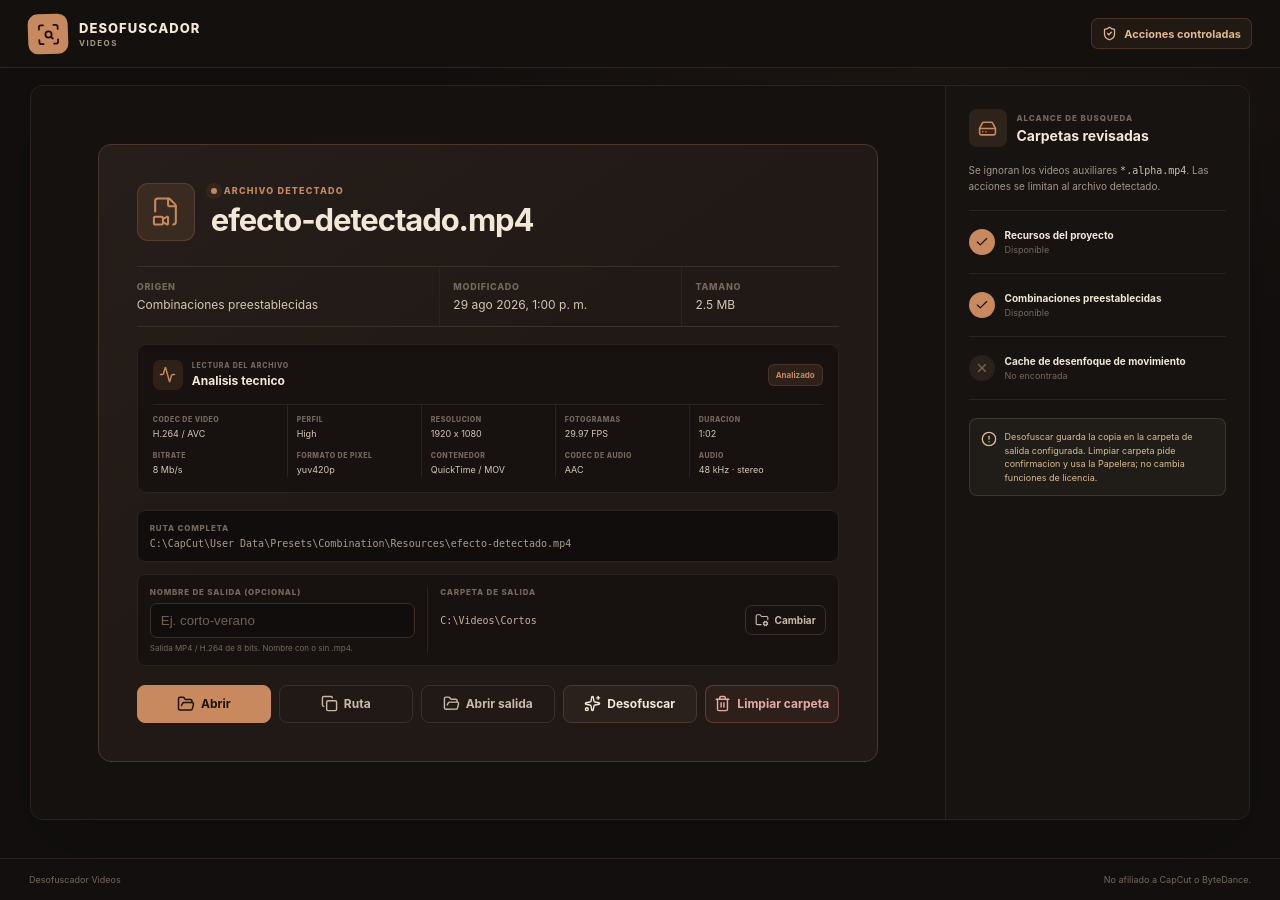
interfaz principal › cancela o confirma el vaciado sin borrar la carpeta contenedora desde la interfaz
The width and height of the screenshot is (1280, 900).
(page scrolled)
Expected: the heading "efecto-detectado.mp4" is shown, x1=211 y1=203 x2=534 y2=238
What coordinates should you click on to do the following:
click the button "Limpiar carpeta"
I would click on:
 (772, 704)
Its box is x1=705 y1=685 x2=839 y2=723.
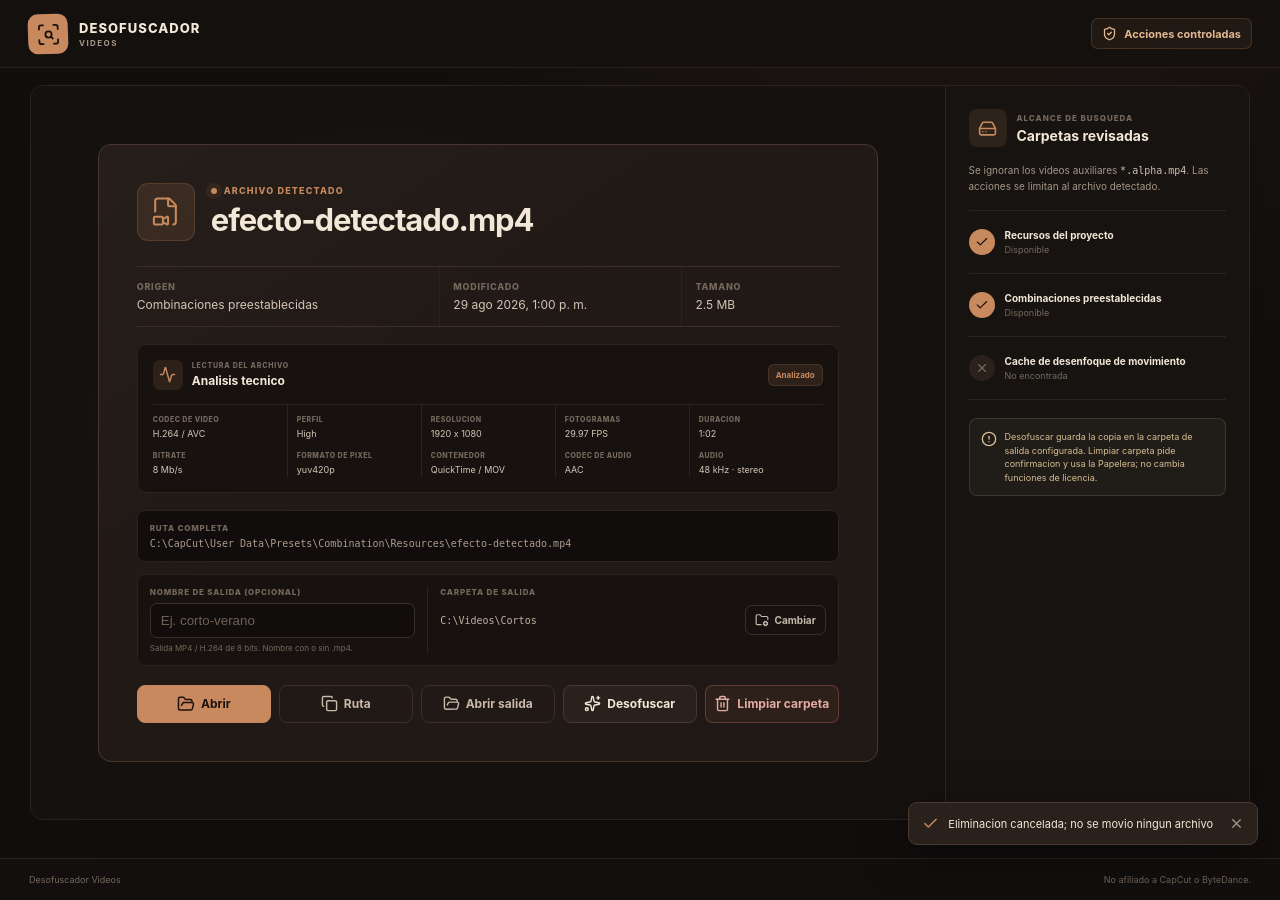
Expected: the message shows "Eliminacion cancelada", x1=948 y1=816 x2=1213 y2=830
What coordinates should you click on to do the following:
click the button "Limpiar carpeta"
I would click on:
 (772, 704)
Its box is x1=705 y1=685 x2=839 y2=723.
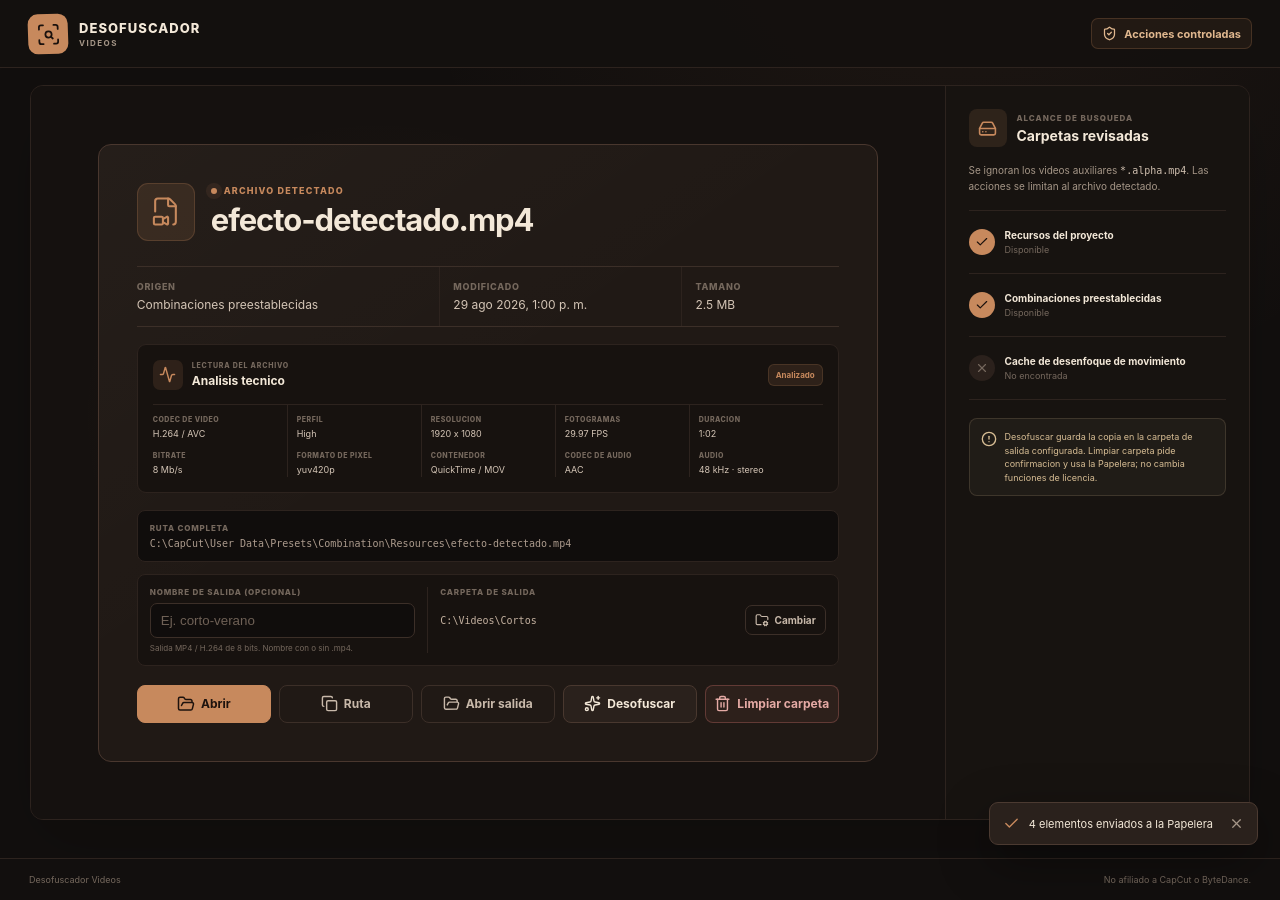
Expected: the message reads "4 elementos enviados a la Papelera", x1=1029 y1=816 x2=1213 y2=830
